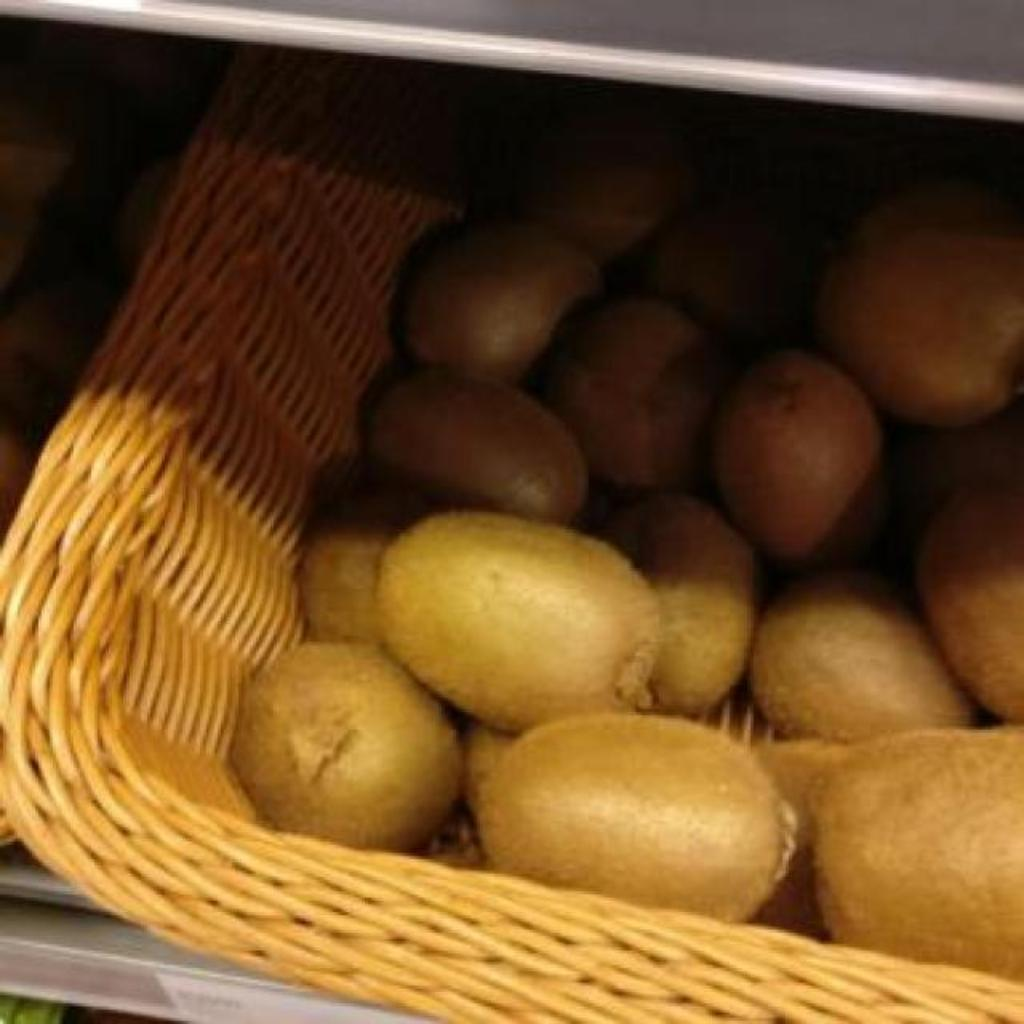kiwi: (480, 716, 794, 921), (380, 512, 656, 731), (816, 730, 1024, 975), (230, 642, 462, 851), (820, 192, 1024, 425), (542, 300, 732, 489), (714, 350, 882, 559), (368, 368, 586, 521), (756, 590, 972, 739), (402, 222, 600, 381), (522, 108, 692, 261), (644, 496, 754, 711), (924, 487, 1024, 721), (306, 494, 430, 641)
